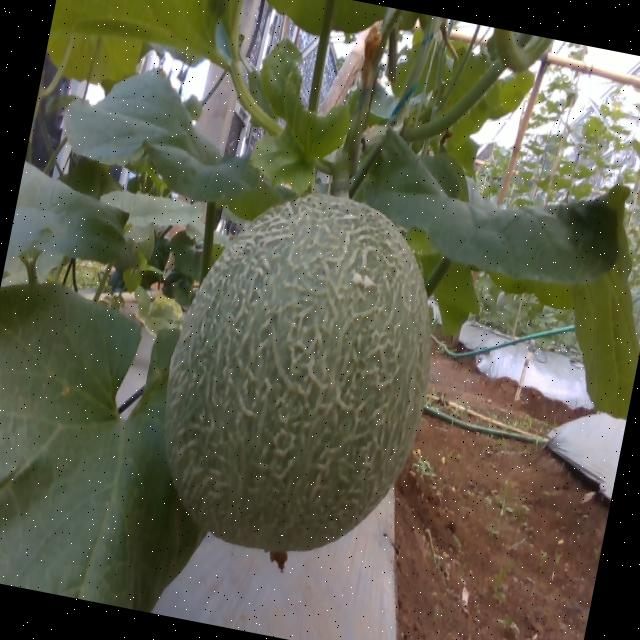melon: (166, 195, 431, 552)
